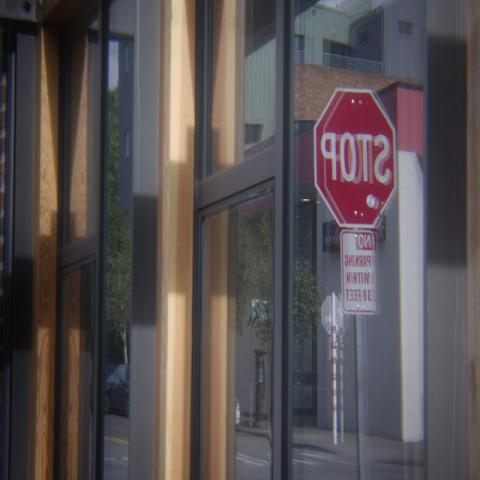car: (106, 364, 130, 417)
